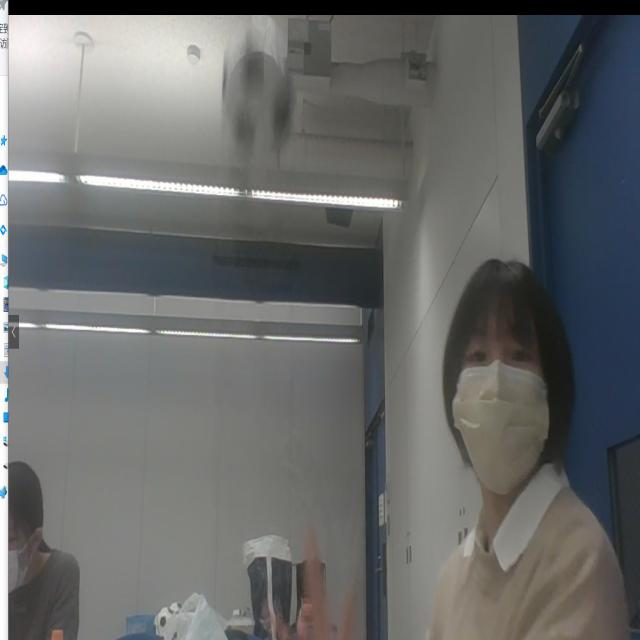ball: (224, 51, 298, 153)
